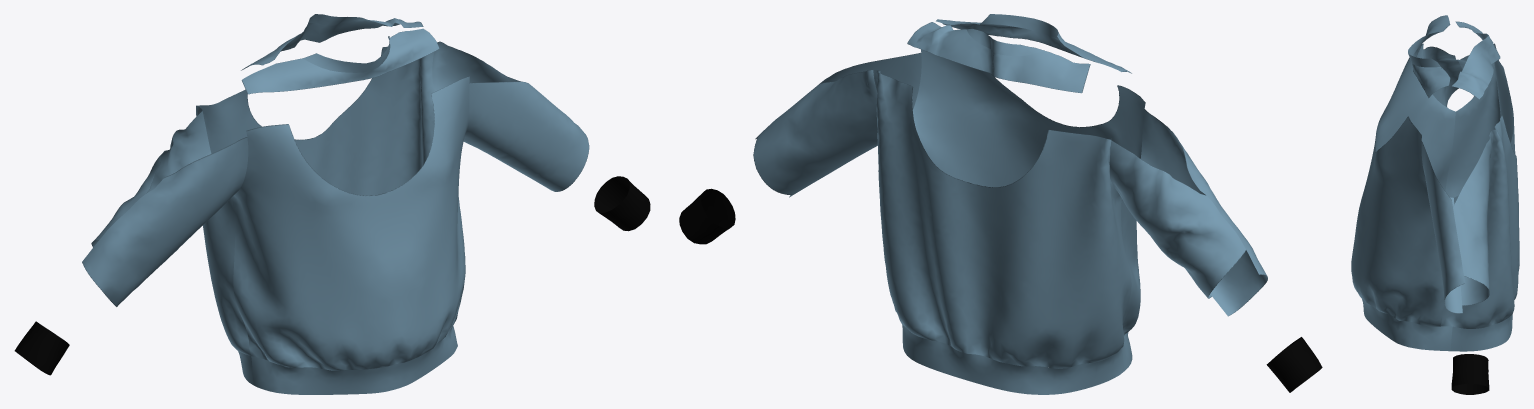
The model's file is mesh-checkpoint.obj.
The picture shows the model from 3 angles, left to right: view 1: azimuth 30°, elevation 25°; view 2: azimuth 150°, elevation 25°; view 3: azimuth 270°, elevation 25°; orthographic projection. The views are drawn at different scales.
Parts seen in each view (by area): view 1: Root_ClothPiece_Fabric_0_ClothPiece_10, Root_ClothPiece_Fabric_0_ClothPiece_13, Root_ClothPiece_Fabric_0_ClothPiece_3, Root_ClothPiece_Fabric_0_ClothPiece_0, Root_ClothPiece_Fabric_1_ClothPiece_8, Root_ClothPiece_Fabric_0_ClothPiece_7, Root_ClothPiece_Fabric_0_ClothPiece_9, Root_ClothPiece_Fabric_1_ClothPiece_1, Root_ClothPiece_Fabric_1_ClothPiece_4, Root_ClothPiece_Fabric_1_ClothPiece_11, Root_ClothPiece_Fabric_1_ClothPiece_5; view 2: Root_ClothPiece_Fabric_0_ClothPiece_13, Root_ClothPiece_Fabric_0_ClothPiece_10, Root_ClothPiece_Fabric_0_ClothPiece_9, Root_ClothPiece_Fabric_0_ClothPiece_7, Root_ClothPiece_Fabric_1_ClothPiece_6, Root_ClothPiece_Fabric_0_ClothPiece_3, Root_ClothPiece_Fabric_0_ClothPiece_0, Root_ClothPiece_Fabric_1_ClothPiece_2, Root_ClothPiece_Fabric_1_ClothPiece_5, Root_ClothPiece_Fabric_1_ClothPiece_4, Root_ClothPiece_Fabric_1_ClothPiece_11, Root_ClothPiece_Fabric_1_ClothPiece_12; view 3: Root_ClothPiece_Fabric_0_ClothPiece_10, Root_ClothPiece_Fabric_0_ClothPiece_13, Root_ClothPiece_Fabric_0_ClothPiece_9, Root_ClothPiece_Fabric_0_ClothPiece_0, Root_ClothPiece_Fabric_1_ClothPiece_8, Root_ClothPiece_Fabric_1_ClothPiece_6, Root_ClothPiece_Fabric_0_ClothPiece_3, Root_ClothPiece_Fabric_1_ClothPiece_4, Root_ClothPiece_Fabric_1_ClothPiece_5, Root_ClothPiece_Fabric_1_ClothPiece_11, Root_ClothPiece_Fabric_1_ClothPiece_12.
Boxes of the visible parts, x1=… form: Root_ClothPiece_Fabric_0_ClothPiece_10: x1=232, y1=28, x2=469, y2=370; Root_ClothPiece_Fabric_0_ClothPiece_13: x1=196, y1=18, x2=434, y2=355; Root_ClothPiece_Fabric_0_ClothPiece_3: x1=82, y1=137, x2=248, y2=306; Root_ClothPiece_Fabric_0_ClothPiece_0: x1=463, y1=81, x2=589, y2=191; Root_ClothPiece_Fabric_1_ClothPiece_8: x1=251, y1=326, x2=457, y2=394; Root_ClothPiece_Fabric_0_ClothPiece_7: x1=91, y1=111, x2=211, y2=247; Root_ClothPiece_Fabric_0_ClothPiece_9: x1=432, y1=41, x2=520, y2=91; Root_ClothPiece_Fabric_1_ClothPiece_1: x1=18, y1=323, x2=69, y2=375; Root_ClothPiece_Fabric_1_ClothPiece_4: x1=600, y1=177, x2=650, y2=231; Root_ClothPiece_Fabric_1_ClothPiece_11: x1=303, y1=36, x2=390, y2=72; Root_ClothPiece_Fabric_1_ClothPiece_5: x1=594, y1=176, x2=629, y2=227; Root_ClothPiece_Fabric_0_ClothPiece_13: x1=873, y1=22, x2=1131, y2=368; Root_ClothPiece_Fabric_0_ClothPiece_10: x1=912, y1=19, x2=1145, y2=336; Root_ClothPiece_Fabric_0_ClothPiece_9: x1=753, y1=70, x2=877, y2=194; Root_ClothPiece_Fabric_0_ClothPiece_7: x1=1109, y1=140, x2=1245, y2=298; Root_ClothPiece_Fabric_1_ClothPiece_6: x1=902, y1=325, x2=1124, y2=394; Root_ClothPiece_Fabric_0_ClothPiece_3: x1=1140, y1=109, x2=1267, y2=316; Root_ClothPiece_Fabric_0_ClothPiece_0: x1=755, y1=52, x2=921, y2=197; Root_ClothPiece_Fabric_1_ClothPiece_2: x1=1266, y1=342, x2=1316, y2=392; Root_ClothPiece_Fabric_1_ClothPiece_5: x1=679, y1=193, x2=731, y2=244; Root_ClothPiece_Fabric_1_ClothPiece_4: x1=682, y1=188, x2=735, y2=228; Root_ClothPiece_Fabric_1_ClothPiece_11: x1=980, y1=14, x2=1066, y2=45; Root_ClothPiece_Fabric_1_ClothPiece_12: x1=967, y1=28, x2=1044, y2=56; Root_ClothPiece_Fabric_0_ClothPiece_10: x1=1351, y1=15, x2=1455, y2=326; Root_ClothPiece_Fabric_0_ClothPiece_13: x1=1440, y1=21, x2=1519, y2=328; Root_ClothPiece_Fabric_0_ClothPiece_9: x1=1453, y1=136, x2=1491, y2=305; Root_ClothPiece_Fabric_0_ClothPiece_0: x1=1421, y1=141, x2=1465, y2=313; Root_ClothPiece_Fabric_1_ClothPiece_8: x1=1362, y1=299, x2=1452, y2=351; Root_ClothPiece_Fabric_1_ClothPiece_6: x1=1450, y1=314, x2=1512, y2=351; Root_ClothPiece_Fabric_0_ClothPiece_3: x1=1423, y1=46, x2=1462, y2=107; Root_ClothPiece_Fabric_1_ClothPiece_4: x1=1451, y1=354, x2=1473, y2=394; Root_ClothPiece_Fabric_1_ClothPiece_5: x1=1466, y1=354, x2=1489, y2=394; Root_ClothPiece_Fabric_1_ClothPiece_11: x1=1408, y1=32, x2=1440, y2=67; Root_ClothPiece_Fabric_1_ClothPiece_12: x1=1467, y1=29, x2=1492, y2=59.
Size of the model in its own units: 1.18 by 0.5925 by 0.3237.
